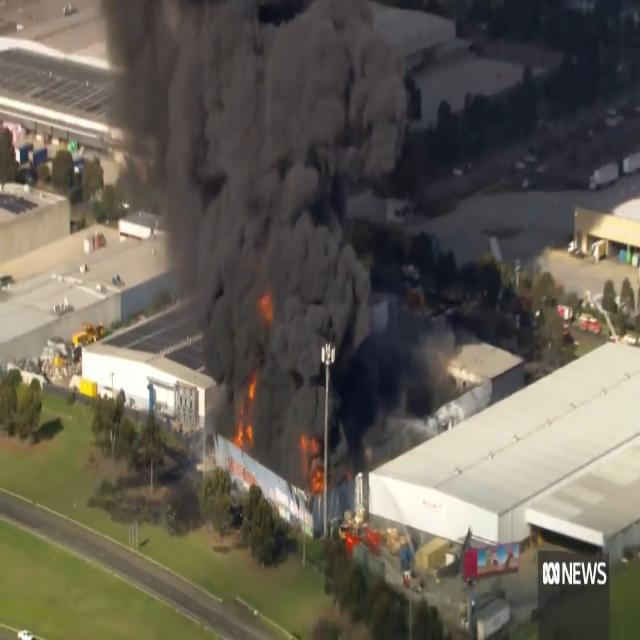fire: (233, 364, 257, 448), (298, 429, 332, 487), (254, 286, 288, 340)
